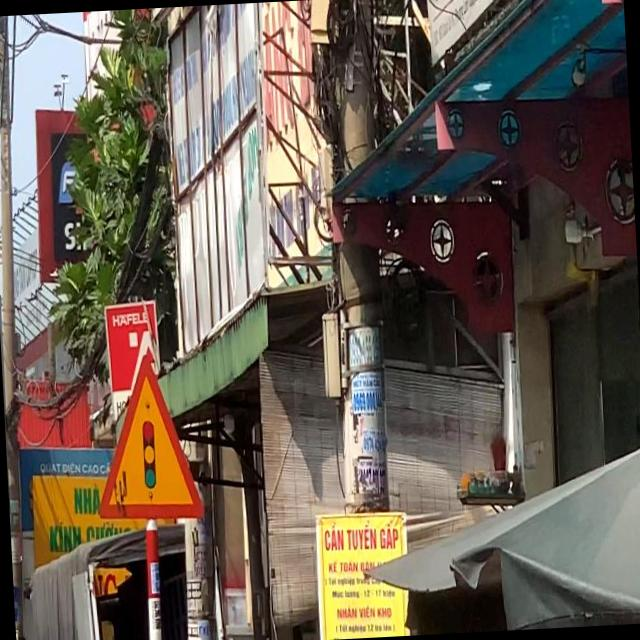W-209: (90, 351, 206, 524)
